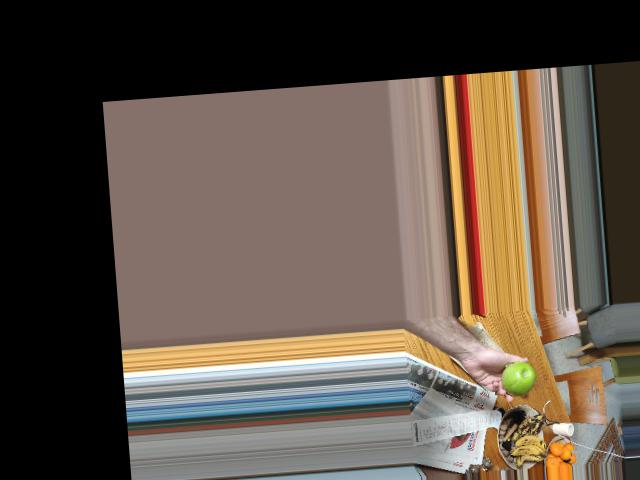apple: (500, 358, 539, 397)
